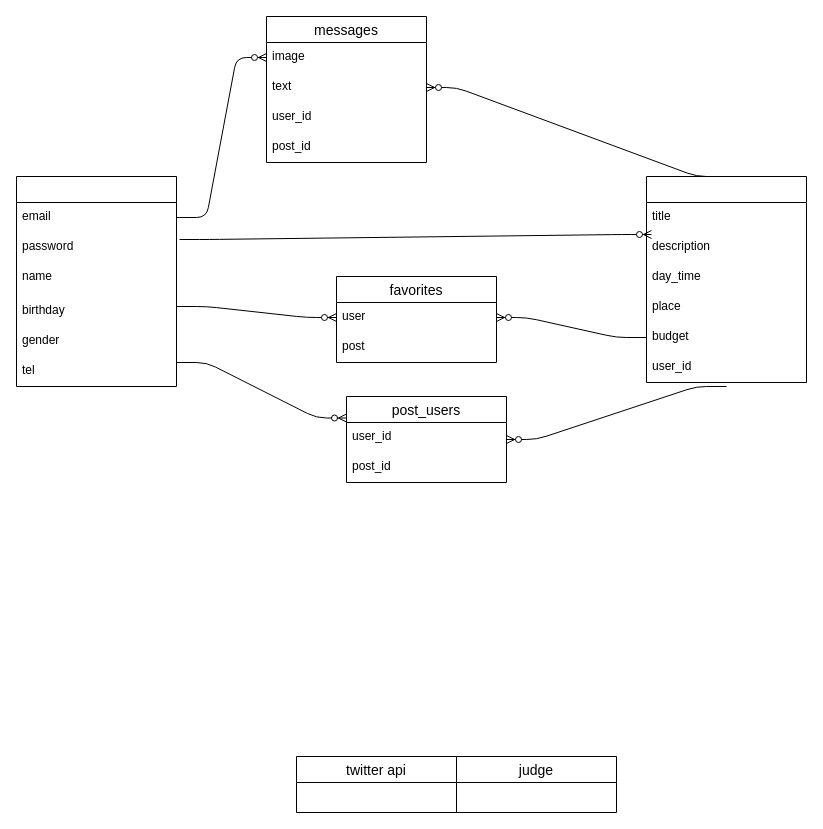
Image size: 823x829. Some labels were removed from this diagram. Each missing label, with the box of its shape:
posts: (646, 176, 806, 382)
users: (16, 176, 176, 386)
